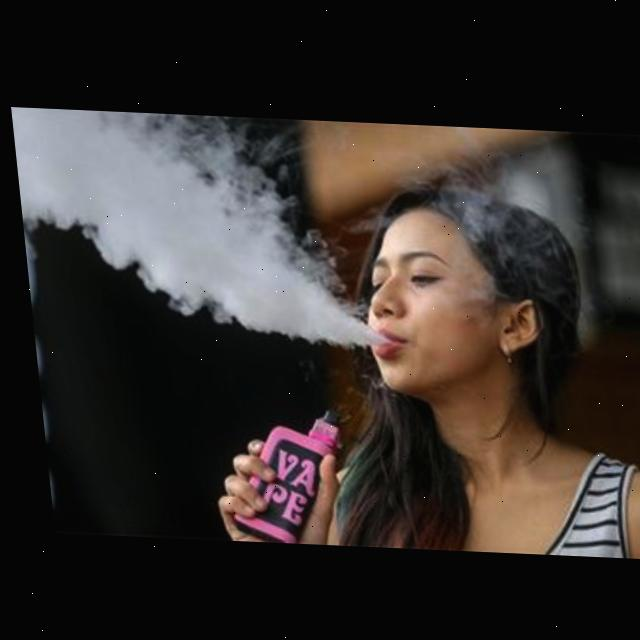vape: (210, 399, 344, 543)
